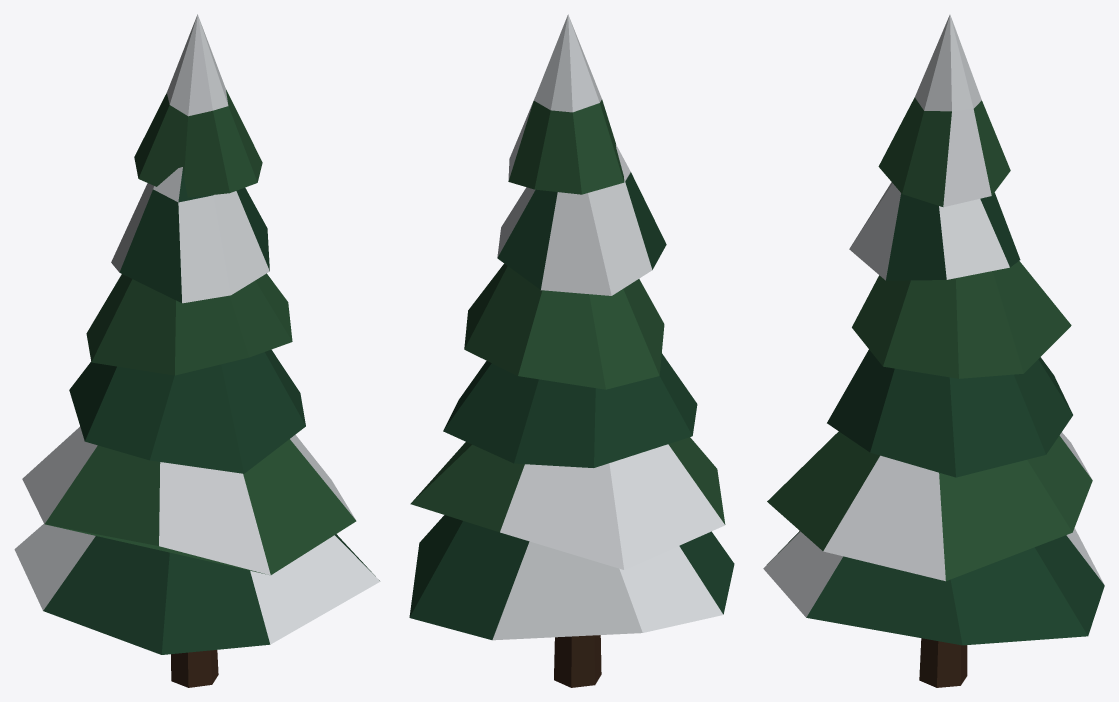
Rendered from Tree_SnowPine_C.glb.
3 views of the same model, side by side, from view 1: azimuth 30°, elevation 25°; view 2: azimuth 150°, elevation 25°; view 3: azimuth 270°, elevation 25° (orthographic).
Parts seen in each view (by area): view 1: Tree_SnowPine_C; view 2: Tree_SnowPine_C; view 3: Tree_SnowPine_C.
Part boxes in pixels (bbox=[...]): Tree_SnowPine_C: bbox=[14, 14, 380, 687]; Tree_SnowPine_C: bbox=[409, 14, 734, 687]; Tree_SnowPine_C: bbox=[763, 14, 1104, 687].
Size of the model in its own units: 2.37 by 5.05 by 2.34.
